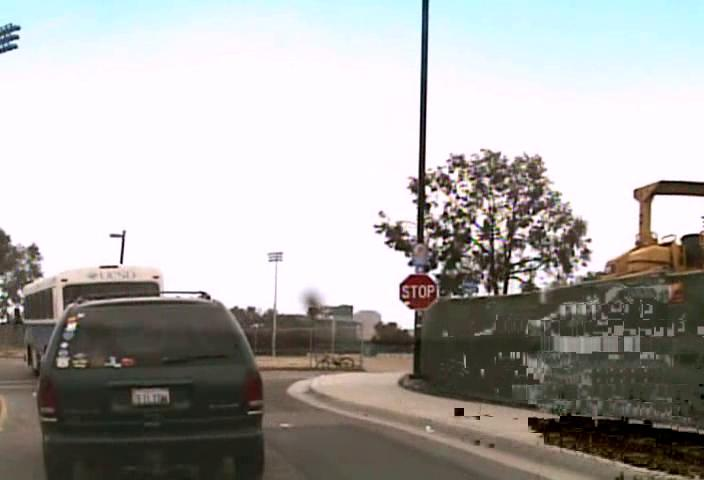stop: (398, 273, 438, 311)
